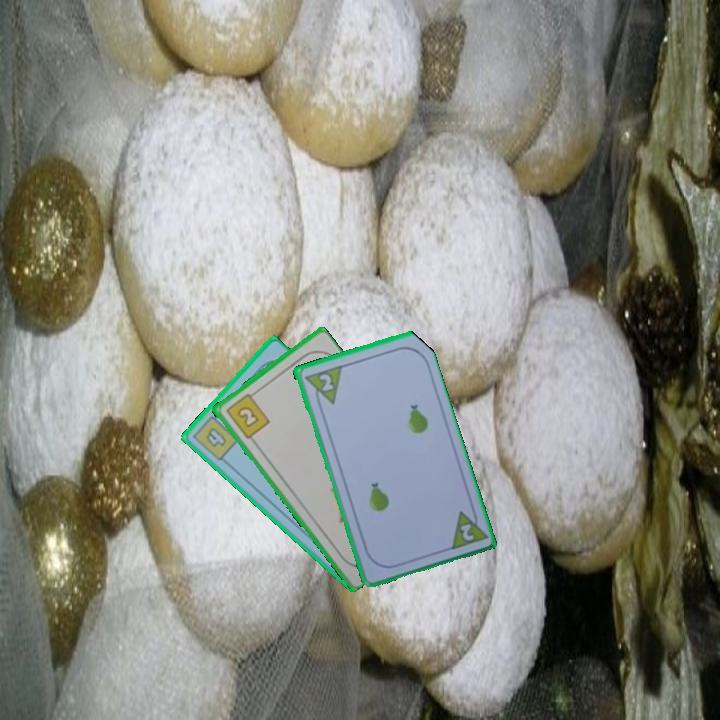2b: (222, 388, 272, 441)
2p: (445, 502, 489, 553), (300, 362, 344, 410)
4b: (189, 408, 241, 464)
